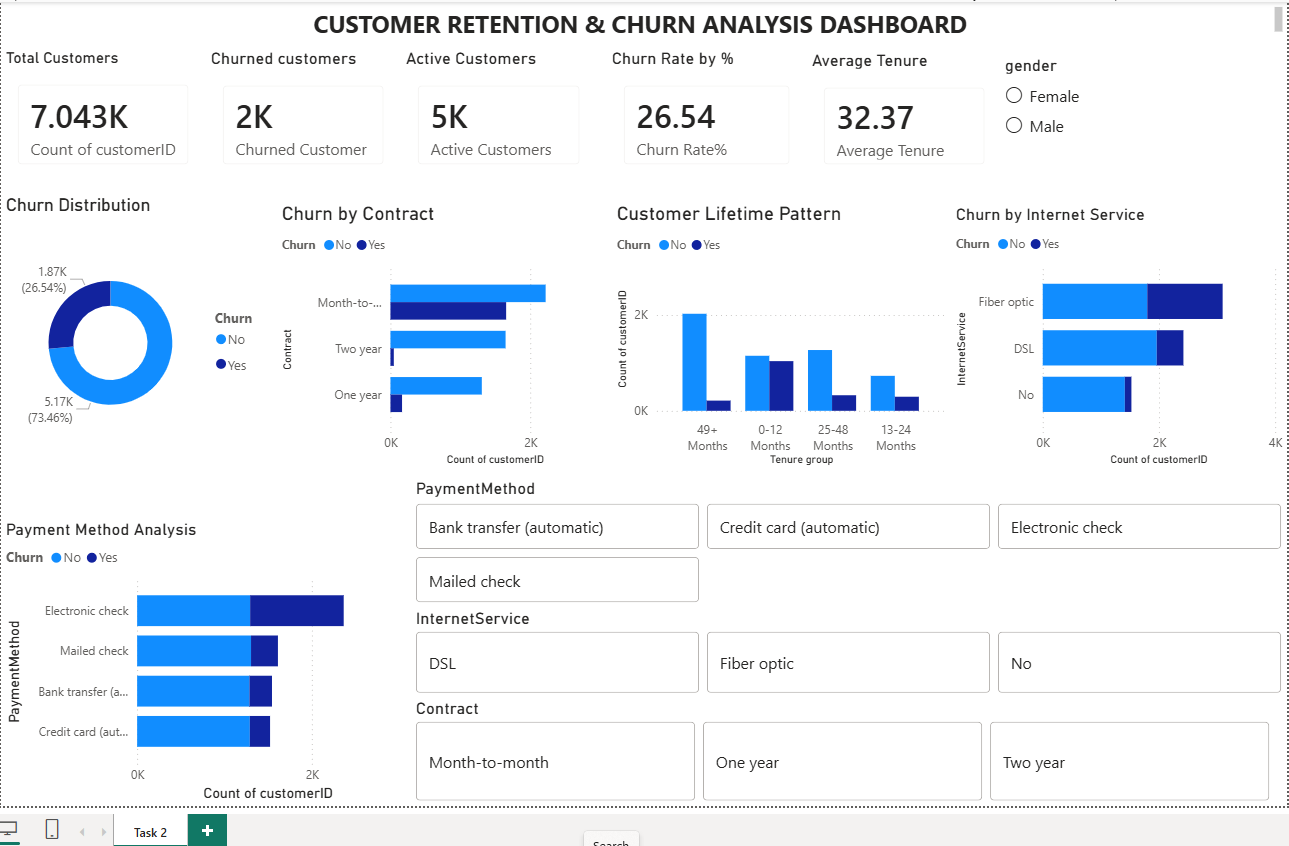

This screenshot's page, from the dashboard's own definition file:
{"tool":"powerbi","page":{"name":"Task 2","canvas":[1304,815],"ordinal":0},"visuals":[{"type":"cardVisual","title":"Total Customers","fields":{"Data":["CountNonNull(Table1.customerID)"]},"box":[0,46.6,207.8,135.8],"z":0},{"type":"donutChart","title":"Churn Distribution","fields":{"Category":["Table1.Churn"],"Y":["CountNonNull(Table1.customerID)"]},"box":[0,194.6,279.8,279.8],"z":1000},{"type":"clusteredBarChart","title":"Churn by Contract","fields":{"Category":["Table1.Contract"],"Y":["CountNonNull(Table1.customerID)"],"Series":["Table1.Churn"]},"box":[279.8,202.7,339.6,271.7],"z":2000},{"type":"clusteredColumnChart","title":"Customer Lifetime Pattern","fields":{"Category":["Table1.Tenure group"],"Y":["CountNonNull(Table1.customerID)"],"Series":["Table1.Churn"]},"box":[619.4,202.7,343.6,271.7],"z":3000},{"type":"barChart","title":"Churn by Internet Service","fields":{"Category":["Table1.InternetService"],"Y":["CountNonNull(Table1.customerID)"],"Series":["Table1.Churn"]},"box":[963,204.8,340.6,269.6],"z":4000},{"type":"barChart","title":"Payment Method Analysis","fields":{"Category":["Table1.PaymentMethod"],"Y":["CountNonNull(Table1.customerID)"],"Series":["Table1.Churn"]},"box":[0,524.1,415.6,290.9],"z":5000},{"type":"listSlicer","fields":{"Values":["Table1.gender"]},"box":[1012.7,53.7,290.9,128.7],"z":6000},{"type":"advancedSlicerVisual","fields":{"Values":["Table1.Contract"]},"box":[415.6,705.5,877.8,109.5],"z":7000},{"type":"advancedSlicerVisual","fields":{"Values":["Table1.InternetService"]},"box":[415.6,614.3,888,91.2],"z":8000},{"type":"advancedSlicerVisual","fields":{"Values":["Table1.PaymentMethod"]},"box":[415.6,482.5,888,131.8],"z":9000},{"type":"cardVisual","title":"Churned customers","fields":{"Data":["Table1.Churned Customer"]},"box":[207.8,46.6,197.7,135.8],"z":10000},{"type":"cardVisual","title":"Active Customers","fields":{"Data":["Table1.Active Customers"]},"box":[405.5,46.6,198.7,135.8],"z":11000},{"type":"cardVisual","title":"Churn Rate by %","fields":{"Data":["Table1.Churn Rate%"]},"box":[614.3,46.6,202.7,135.8],"z":12000},{"type":"cardVisual","title":"Average Tenure","fields":{"Data":["Table1.Average Tenure"]},"box":[817,48.7,197.7,133.8],"z":13000},{"type":"textbox","box":[0,0,1303.6,37.5],"z":14000}]}

Visuals, with their boxes on the page's 1304x815 design canvas (x1, y1, x2, y2). These are canvas units, not pixel positions in the 1289x846 screenshot, which may show the page scaled, cropped or inside an application window:
"Total Customers" cardVisual: [x1=0, y1=47, x2=208, y2=182]
"Churn Distribution" donutChart: [x1=0, y1=195, x2=280, y2=474]
"Churn by Contract" clusteredBarChart: [x1=280, y1=203, x2=619, y2=474]
"Customer Lifetime Pattern" clusteredColumnChart: [x1=619, y1=203, x2=963, y2=474]
"Churn by Internet Service" barChart: [x1=963, y1=205, x2=1304, y2=474]
"Payment Method Analysis" barChart: [x1=0, y1=524, x2=416, y2=815]
listSlicer - Table1.gender: [x1=1013, y1=54, x2=1304, y2=182]
advancedSlicerVisual - Table1.Contract: [x1=416, y1=706, x2=1293, y2=815]
advancedSlicerVisual - Table1.InternetService: [x1=416, y1=614, x2=1304, y2=706]
advancedSlicerVisual - Table1.PaymentMethod: [x1=416, y1=482, x2=1304, y2=614]
"Churned customers" cardVisual: [x1=208, y1=47, x2=406, y2=182]
"Active Customers" cardVisual: [x1=406, y1=47, x2=604, y2=182]
"Churn Rate by %" cardVisual: [x1=614, y1=47, x2=817, y2=182]
"Average Tenure" cardVisual: [x1=817, y1=49, x2=1015, y2=182]
textbox: [x1=0, y1=0, x2=1304, y2=38]
